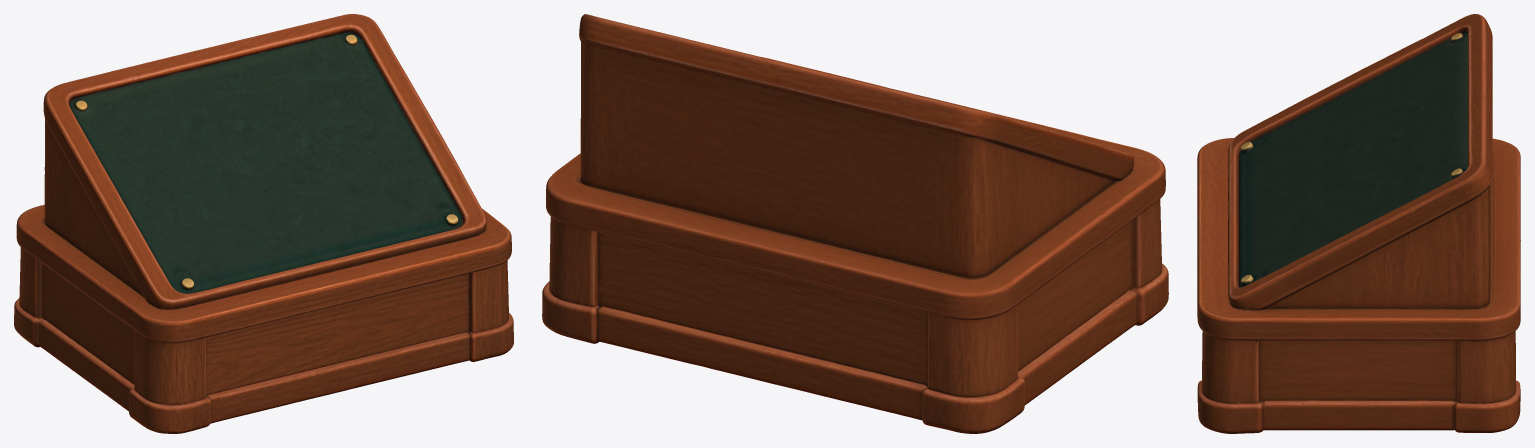
The model's file is ammonite_stand.glb.
3 renders of one model, left to right at view 1: azimuth 30°, elevation 25°; view 2: azimuth 150°, elevation 25°; view 3: azimuth 270°, elevation 25°, orthographic. The views are drawn at different scales.
Visible parts, largest first — view 1: tripo_node_f3b020b9-5e66-45cb-b942-b7367e3c9f90; view 2: tripo_node_f3b020b9-5e66-45cb-b942-b7367e3c9f90; view 3: tripo_node_f3b020b9-5e66-45cb-b942-b7367e3c9f90.
Boxes of the visible parts, x1,y1,x2,y2 form: tripo_node_f3b020b9-5e66-45cb-b942-b7367e3c9f90: (14,14,513,433); tripo_node_f3b020b9-5e66-45cb-b942-b7367e3c9f90: (542,14,1168,433); tripo_node_f3b020b9-5e66-45cb-b942-b7367e3c9f90: (1197,14,1520,433).
Size of the model in its own units: 0.9808 by 0.6266 by 0.7266.
Materials: 1 (1 with a texture image).
